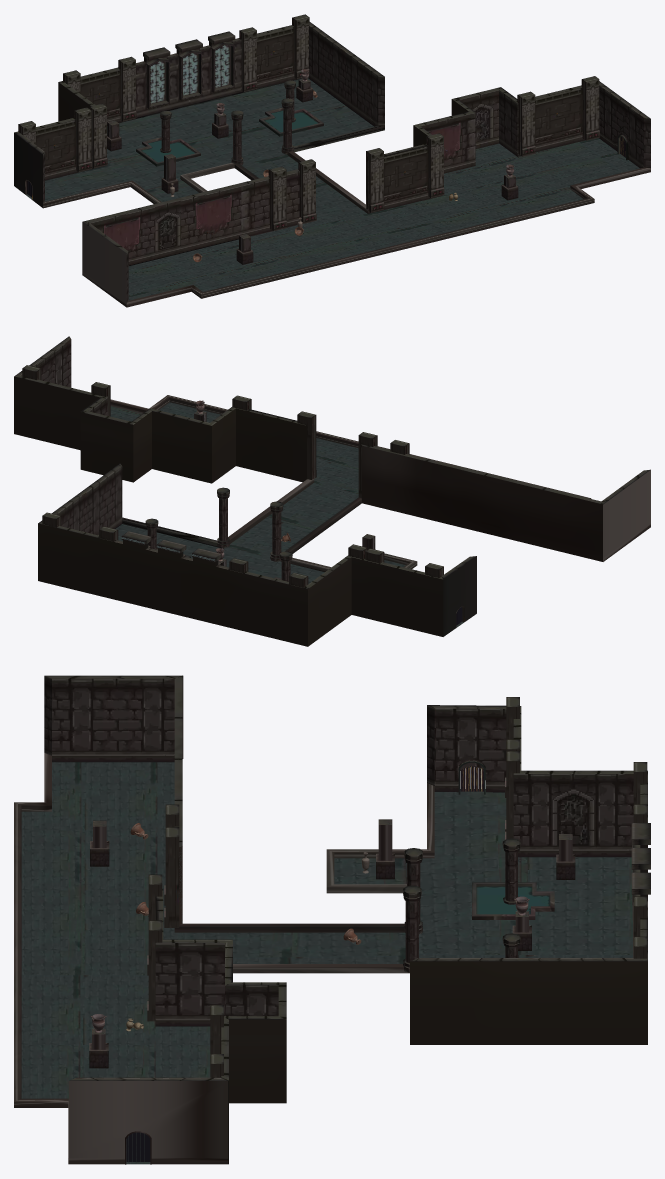
The model's file is level 2.fbx.
The picture shows the model from 3 angles, top to bottom: view 1: azimuth 30°, elevation 25°; view 2: azimuth 150°, elevation 25°; view 3: azimuth 270°, elevation 25°; orthographic projection. The views are drawn at different scales.
Visible parts, largest first — view 1: Room, Floor, Room.001, Room.006, Room.002, Cube.050, Cube.049, Cube.047, Cube.046, Cube.003, Cube.038, Cube.041 (+15 smaller); view 2: Room, Floor, Room.001, Room.003, Room.006, Room.002, Cube.047, Plane.028, Plane.002, Cube.003; view 3: Floor, Room, Room.001, Room.006, Room.003, Room.002, Cube.003, Room.010, Plane.002, Room.007, Cube.024, Cube.048 (+7 smaller).
Boxes of the visible parts, x1,y1,x2,y2 form: Room: [14, 22, 599, 265]; Floor: [25, 78, 639, 300]; Room.001: [82, 167, 650, 307]; Room.006: [599, 81, 650, 168]; Room.002: [43, 126, 384, 208]; Cube.050: [581, 76, 599, 140]; Cube.049: [517, 91, 535, 156]; Cube.047: [366, 148, 384, 212]; Cube.046: [268, 166, 286, 231]; Cube.003: [298, 159, 316, 223]; Cube.038: [118, 56, 136, 121]; Cube.041: [239, 27, 257, 91]; Room: [14, 375, 602, 646]; Floor: [110, 402, 463, 627]; Room.001: [110, 395, 650, 561]; Room.003: [223, 479, 361, 553]; Room.006: [15, 336, 71, 387]; Room.002: [122, 517, 417, 571]; Cube.047: [297, 411, 316, 479]; Plane.028: [270, 501, 283, 561]; Plane.002: [217, 487, 229, 547]; Cube.003: [358, 432, 377, 498]; Floor: [21, 762, 632, 1164]; Room: [155, 675, 647, 1163]; Room.001: [14, 675, 183, 1163]; Room.006: [68, 1077, 228, 1164]; Room.003: [174, 923, 409, 973]; Room.002: [326, 783, 434, 893]; Cube.003: [164, 827, 179, 927]; Room.010: [476, 886, 550, 914]; Plane.002: [403, 885, 421, 972]; Room.007: [472, 882, 554, 919]; Cube.024: [376, 819, 394, 879]; Cube.048: [147, 920, 162, 1021].
Bounding box in the file's own units: 2345 × 267 × 1556.
